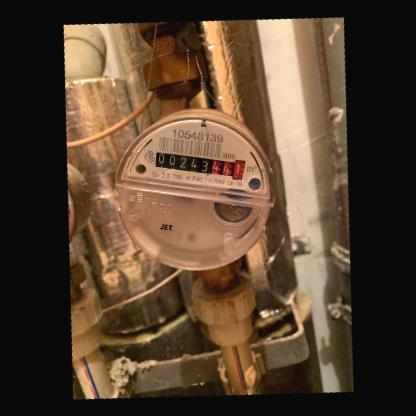digital_screen: (150, 143, 211, 180)
